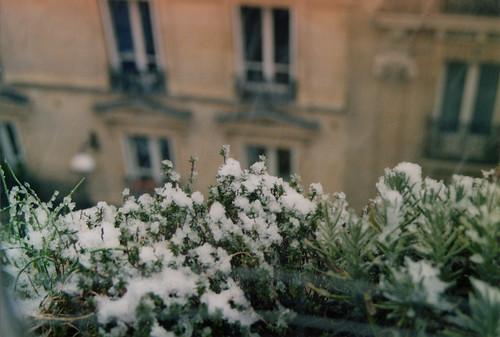building: (1, 1, 484, 174)
vegetation: (8, 160, 500, 337)
